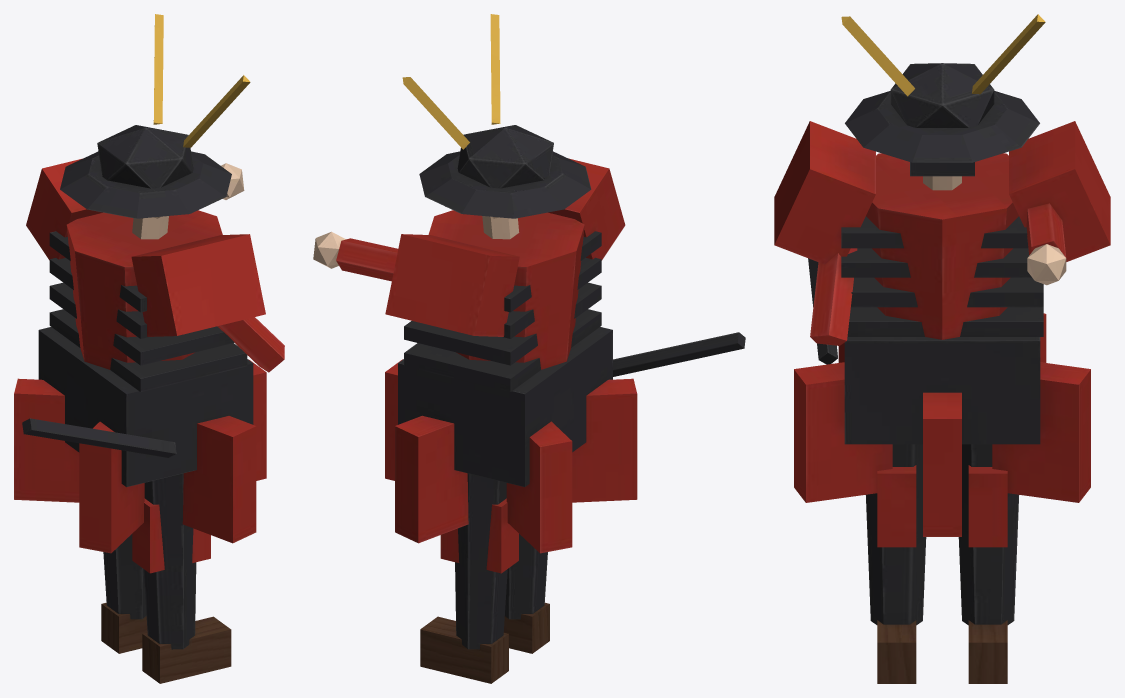
File: samurai_tex.glb
3 renders of one model, left to right at view 1: azimuth 30°, elevation 25°; view 2: azimuth 150°, elevation 25°; view 3: azimuth 270°, elevation 25°, orthographic. The views are drawn at different scales.
Parts seen in each view (by area): view 1: Torn, Kaross, BenH, BenV, Pipa; view 2: Torn, Kaross, BenV, BenH, Pipa; view 3: Torn, Kaross, BenH, BenV, Pipa.
Boxes of the visible parts, x1,y1,x2,y2 form: Torn: (26,14,284,391); Kaross: (14,327,266,553); BenH: (132,473,231,683); BenV: (101,534,147,653); Pipa: (221,163,244,199); Torn: (385,14,625,391); Kaross: (385,327,745,553); BenV: (420,473,518,683); BenH: (503,534,549,653); Pipa: (313,231,398,281); Torn: (774,14,1110,345); Kaross: (794,258,1090,536); BenH: (866,444,926,683); BenV: (958,444,1018,683); Pipa: (1026,203,1066,285).
Bounding box in the file's own units: 1.27 × 2.26 × 1.03.
5 materials, 5 textured.
